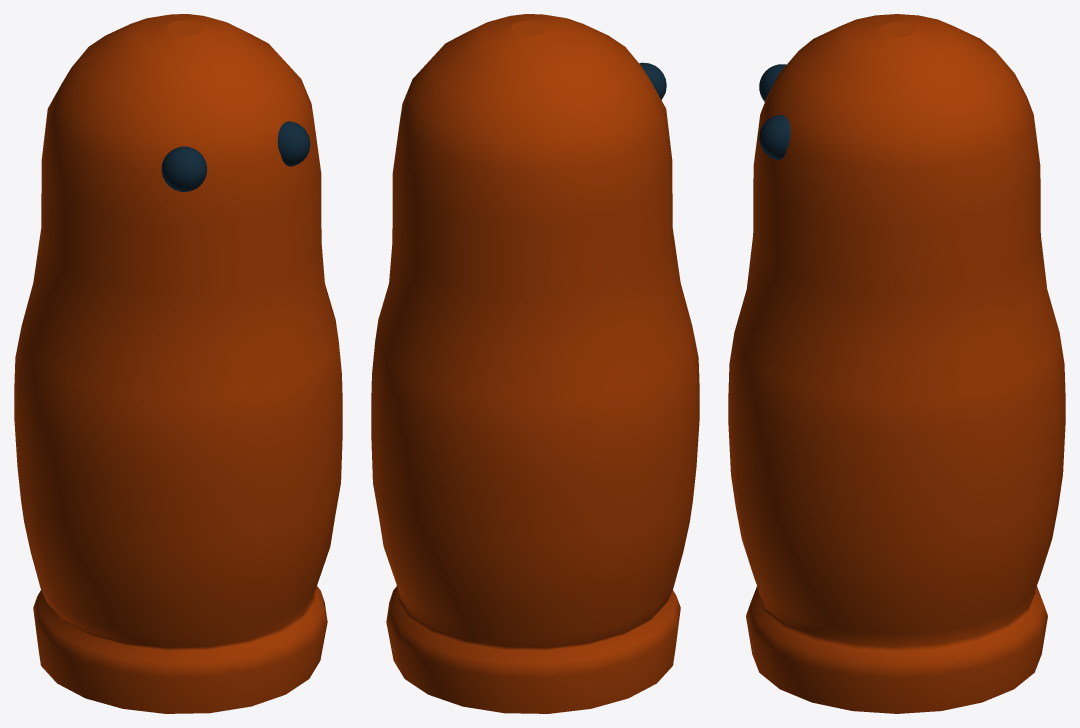
Rendered from person2.fbx.
3 views of the same model, side by side, from view 1: azimuth 30°, elevation 25°; view 2: azimuth 150°, elevation 25°; view 3: azimuth 270°, elevation 25° (orthographic).
Parts seen in each view (by area): view 1: person2; view 2: person2; view 3: person2.
Part boxes in pixels (x1=…): person2: x1=14, y1=14, x2=342, y2=713; person2: x1=371, y1=14, x2=699, y2=713; person2: x1=728, y1=14, x2=1065, y2=713.
Size of the model in its own units: 4.1 by 8.61 by 4.2.
